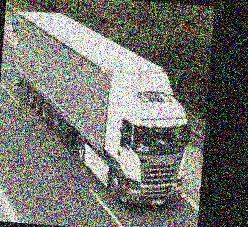car: (11, 12, 20, 33)
